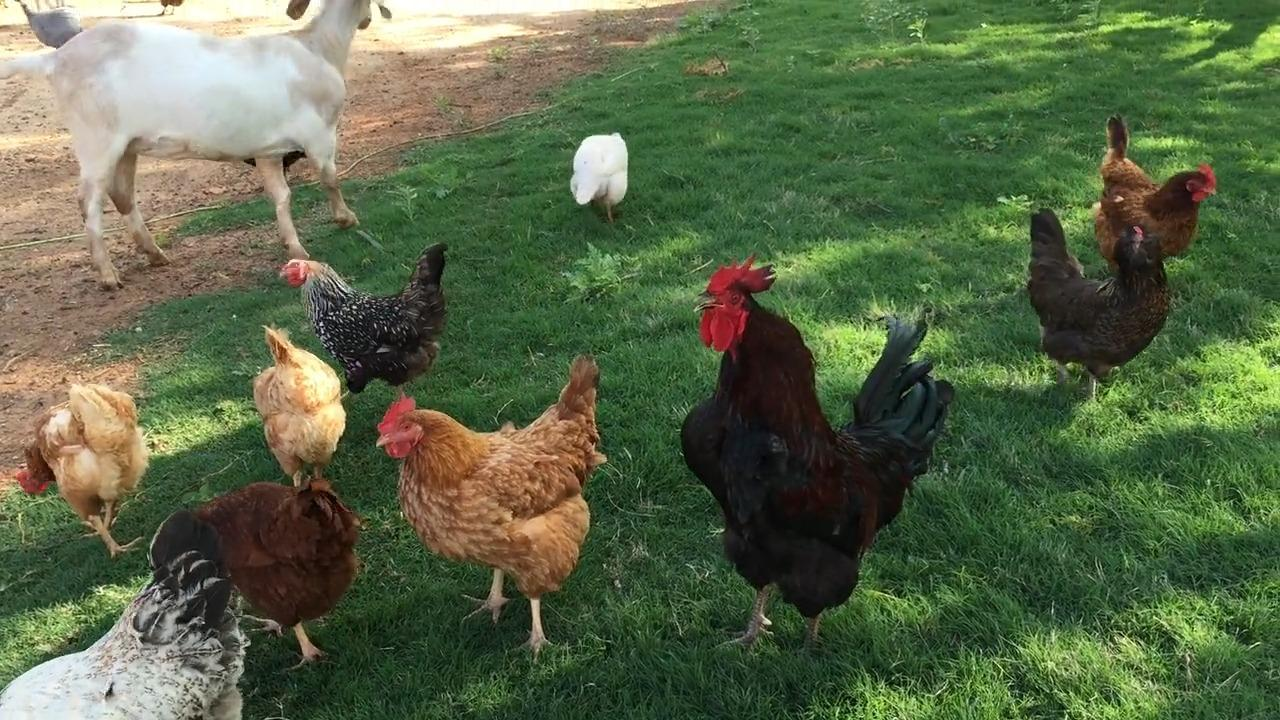Normal: (677, 262, 948, 638), (380, 379, 605, 648), (1026, 205, 1172, 398), (276, 253, 465, 393), (1099, 119, 1225, 257)
